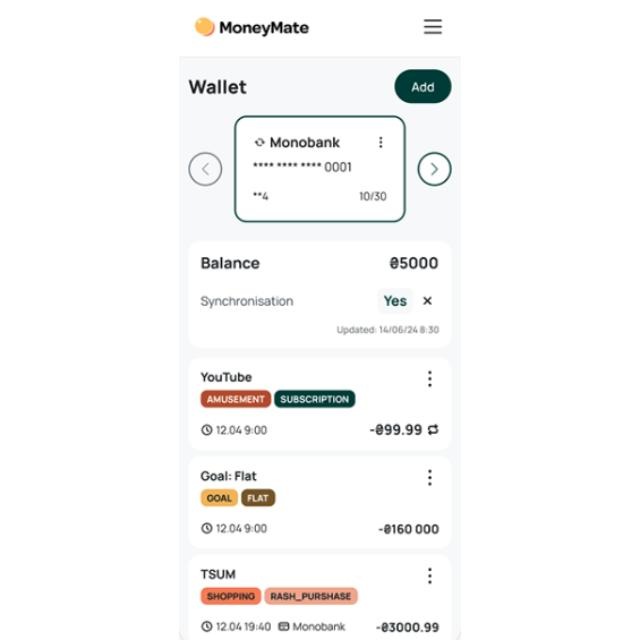QLabel: (219, 21, 309, 37), (200, 296, 294, 308), (336, 325, 439, 335), (188, 78, 248, 95), (200, 256, 260, 270), (376, 622, 438, 634), (378, 524, 438, 536), (200, 470, 258, 482), (390, 256, 438, 270), (270, 592, 352, 600), (369, 424, 421, 436), (208, 394, 264, 404), (215, 622, 271, 632), (282, 395, 350, 403), (292, 622, 346, 632), (200, 372, 252, 382), (207, 591, 256, 601), (216, 524, 268, 532), (216, 426, 266, 434), (200, 570, 236, 580), (384, 294, 406, 308), (412, 81, 436, 92), (206, 495, 232, 503), (247, 494, 269, 502)
VAppBar: (179, 0, 461, 58)
VBtn: (395, 68, 451, 104)
VCard: (188, 240, 452, 348), (188, 355, 452, 451), (188, 455, 450, 549), (186, 554, 450, 640)
VCarousel: (185, 110, 455, 228)
VChip: (264, 588, 358, 604), (275, 390, 355, 408), (201, 389, 271, 407), (200, 588, 262, 604), (378, 288, 412, 312), (200, 488, 238, 506), (241, 488, 275, 506)
VIcon: (195, 18, 215, 38), (423, 17, 442, 37), (428, 424, 438, 436), (202, 522, 212, 534), (202, 424, 212, 436), (202, 620, 212, 632), (278, 621, 290, 631), (427, 469, 433, 486), (422, 297, 432, 305), (428, 370, 432, 388), (428, 567, 432, 585)
